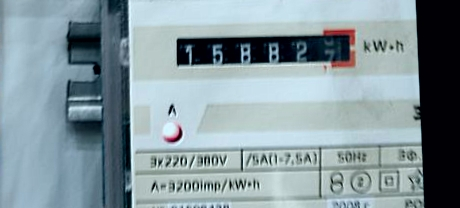1: (182, 41, 197, 64)
2: (293, 39, 310, 63)
5: (210, 40, 225, 66)
7: (323, 44, 336, 62)
8: (266, 40, 281, 64), (238, 41, 252, 65)
screen: (166, 20, 366, 84)
